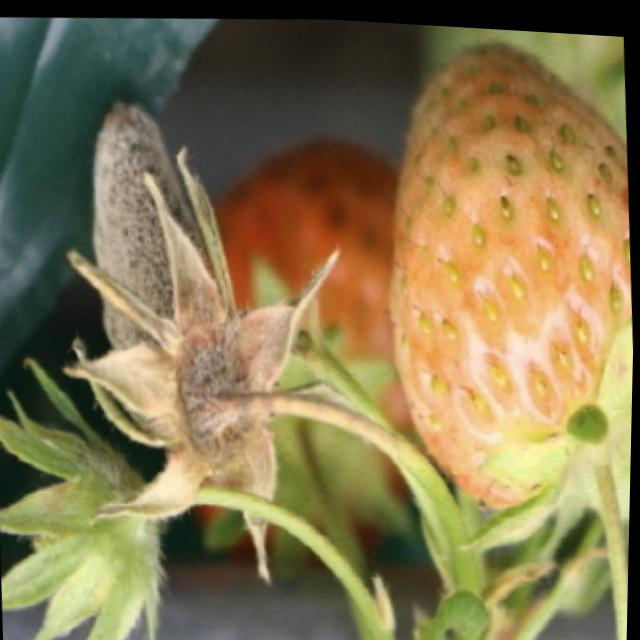Gray Mold: (59, 97, 339, 579)
